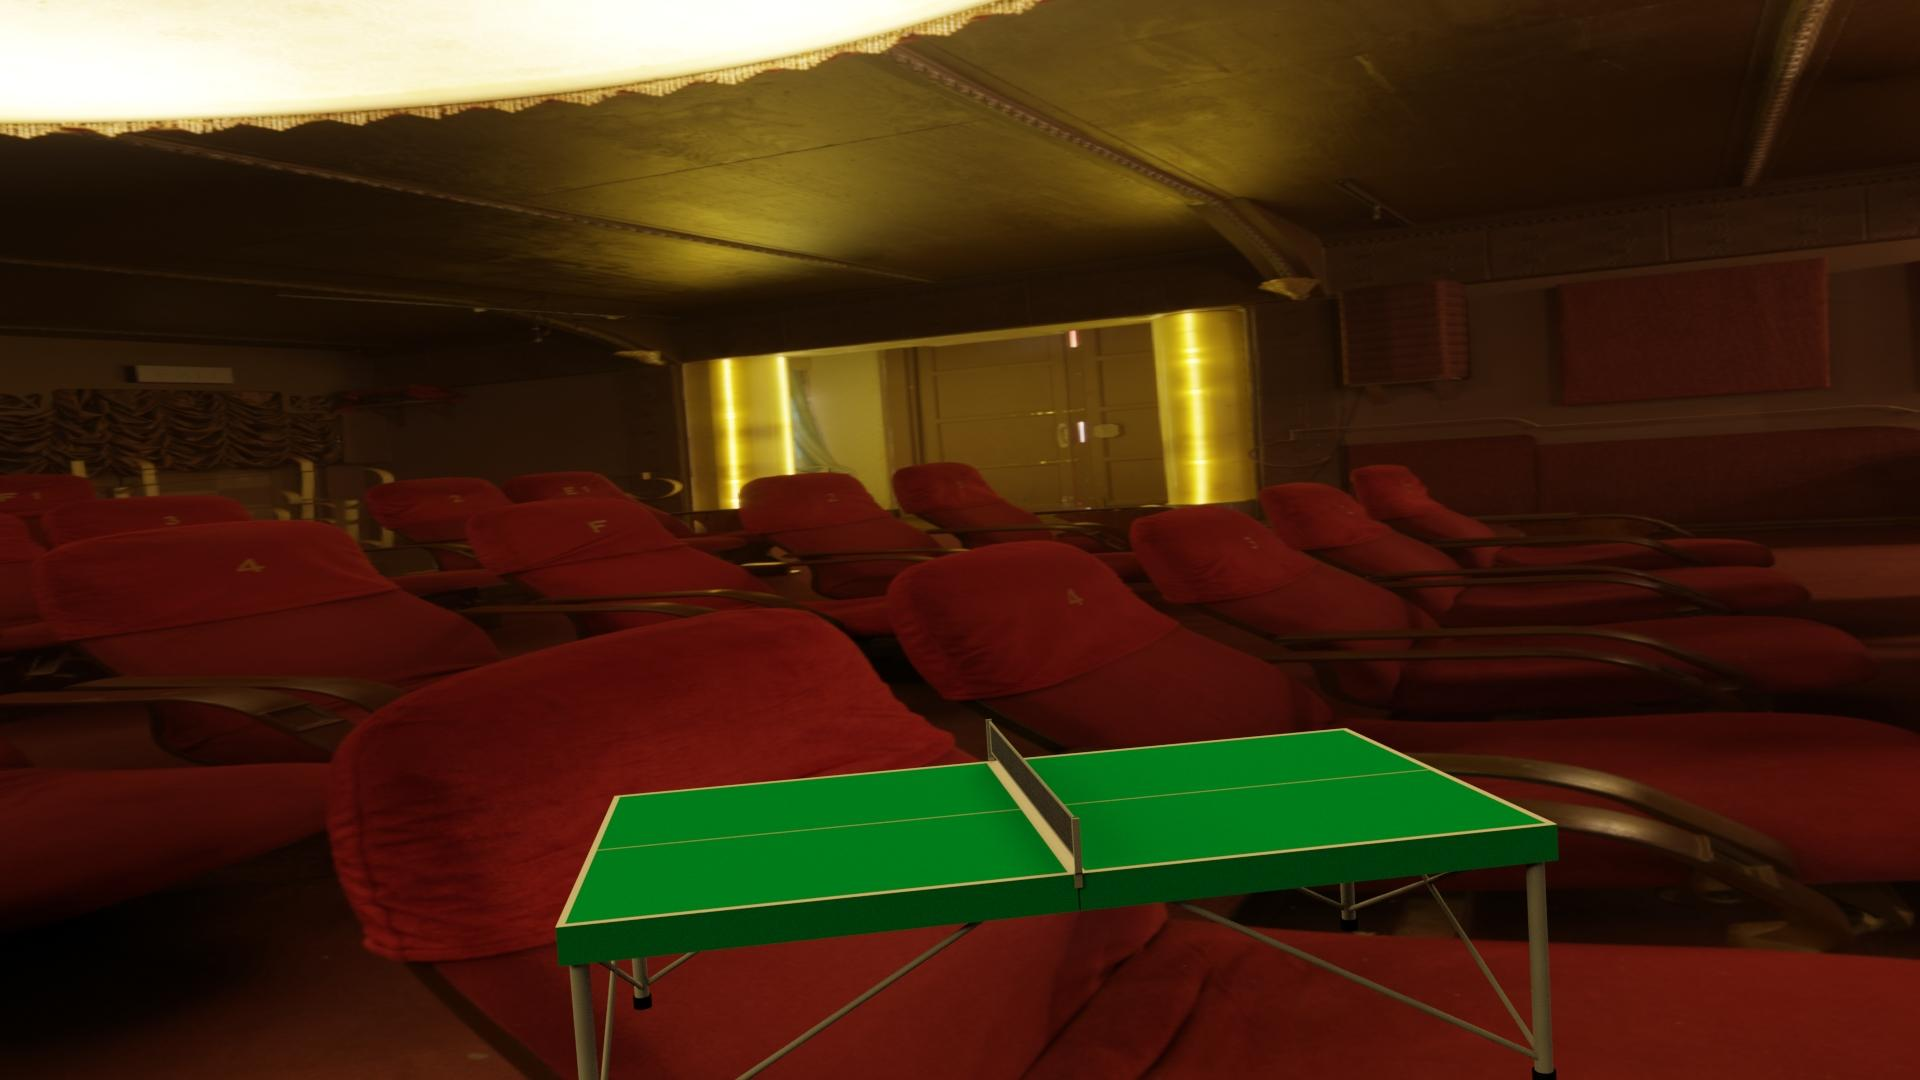table: (564, 729, 1547, 924)
